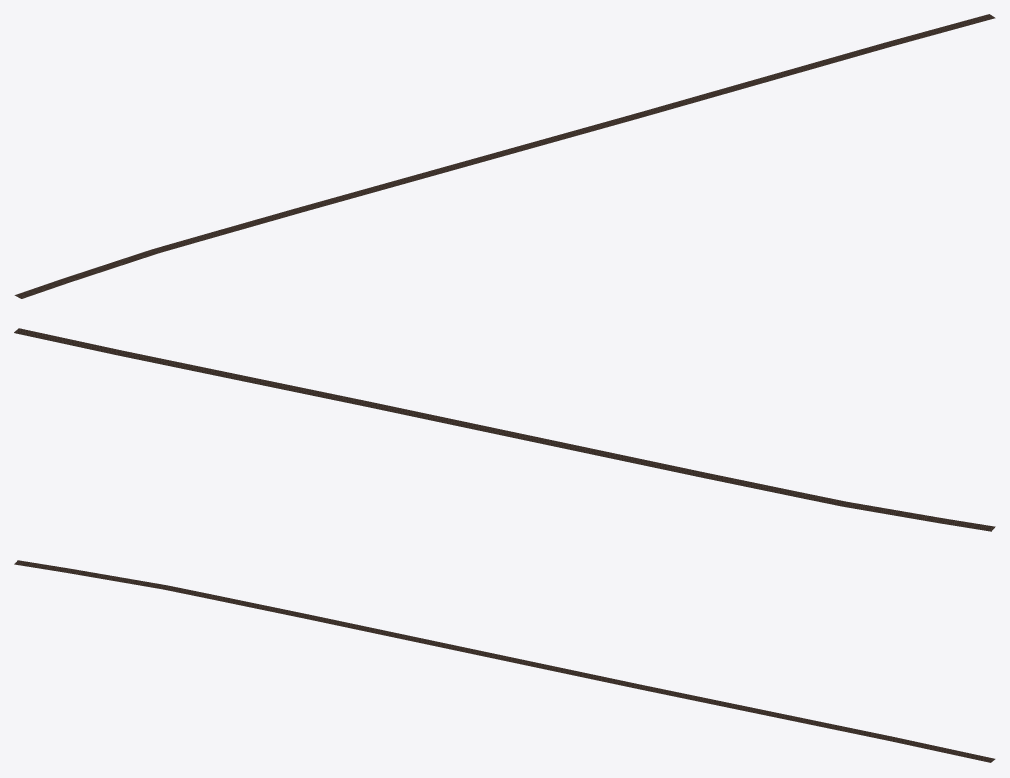
Rendered from kobe_0025.glb.
The picture shows the model from 3 angles, top to bottom: view 1: azimuth 30°, elevation 25°; view 2: azimuth 150°, elevation 25°; view 3: azimuth 330°, elevation 25°; orthographic projection. The views are drawn at different scales.
Visible parts, largest first — view 1: ballast_top, oxidised_rail_profiles; view 2: ballast_top, oxidised_rail_profiles, ballast_left; view 3: ballast_top, oxidised_rail_profiles.
Boxes of the visible parts, box(x1,y1,x2,y2) form: ballast_top: box(14, 14, 995, 298); oxidised_rail_profiles: box(16, 14, 994, 298); ballast_top: box(14, 328, 994, 530); oxidised_rail_profiles: box(15, 328, 994, 529); ballast_left: box(14, 332, 991, 531); ballast_top: box(14, 560, 995, 762); oxidised_rail_profiles: box(15, 560, 994, 761).
Size of the model in its own units: 753 by 0.819 by 64.88.
4 materials, 3 textured.
